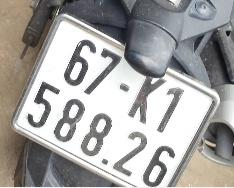1: (150, 81, 191, 139)
2: (108, 126, 153, 182)
5: (22, 77, 63, 134)
6: (58, 33, 102, 92), (139, 139, 181, 188)
7: (80, 45, 127, 101)
8: (76, 107, 119, 162), (50, 94, 92, 148)
K: (125, 71, 173, 128)
